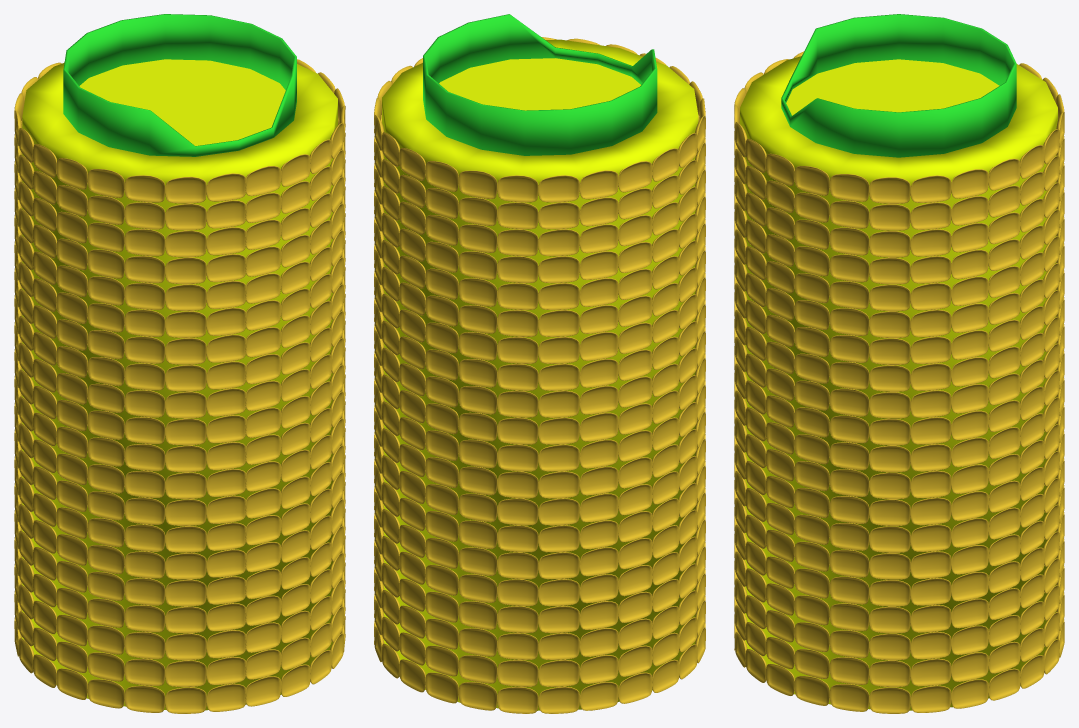
File: MisirYuvali.fbx
The picture shows the model from 3 angles, left to right: view 1: azimuth 30°, elevation 25°; view 2: azimuth 150°, elevation 25°; view 3: azimuth 270°, elevation 25°; orthographic projection.
Parts seen in each view (by area): view 1: MisirYuvali; view 2: MisirYuvali; view 3: MisirYuvali.
Boxes of the visible parts, box(x1,y1,x2,y2) form: MisirYuvali: box(14, 14, 345, 713); MisirYuvali: box(374, 14, 705, 713); MisirYuvali: box(734, 14, 1064, 713).
Bounding box in the file's own units: 111 × 214 × 111.
